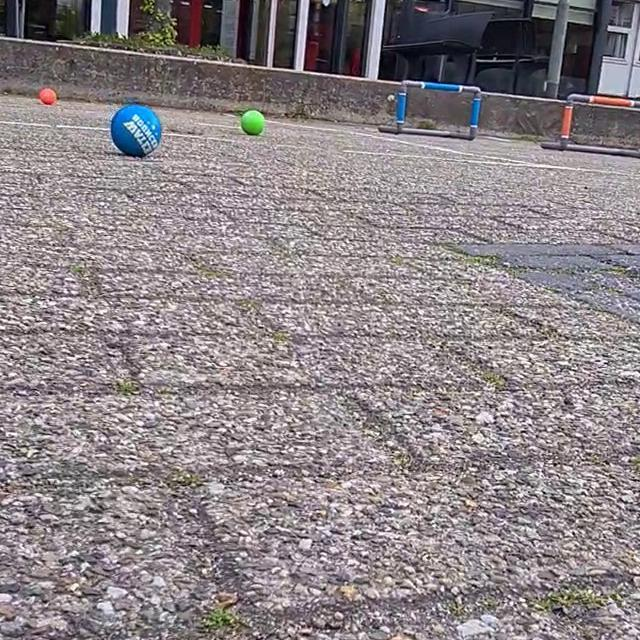ball: (238, 105, 268, 138)
